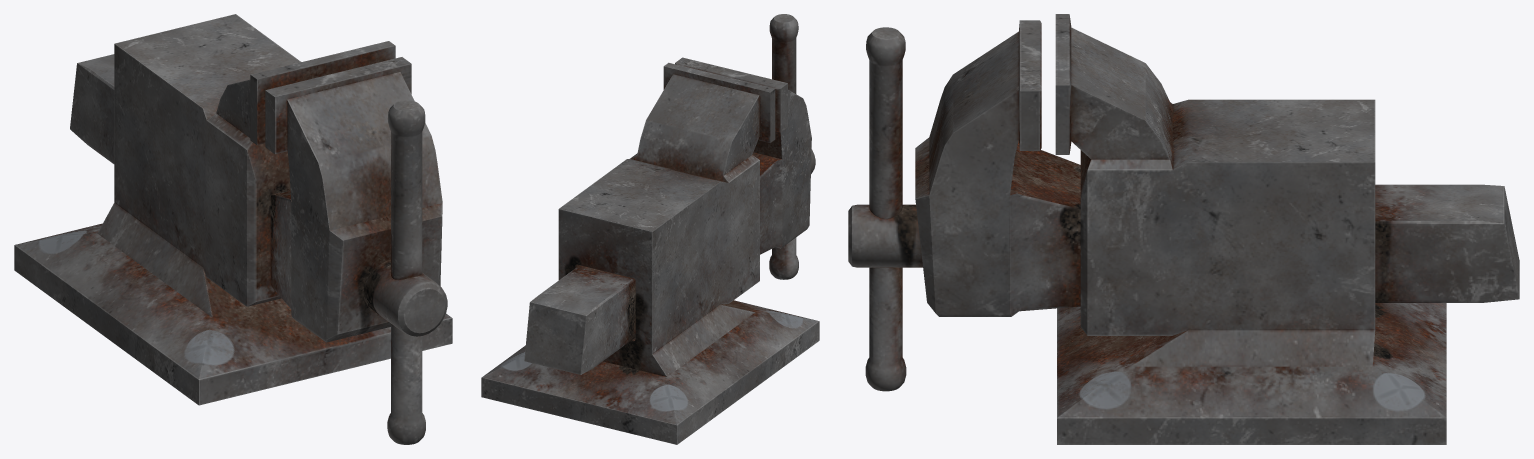
Rendered from vise.glb.
3 views of the same model, side by side, from view 1: azimuth 30°, elevation 25°; view 2: azimuth 150°, elevation 25°; view 3: azimuth 270°, elevation 25° (orthographic). The views are drawn at different scales.
Visible parts, largest first — view 1: Cube.001; view 2: Cube.001; view 3: Cube.001.
Boxes of the visible parts, x1,y1,x2,y2 form: Cube.001: (14, 14, 452, 444); Cube.001: (481, 14, 819, 444); Cube.001: (848, 14, 1519, 444).
Bounding box in the file's own units: 27.31 × 34.51 × 59.27.
Materials: 1 (1 with a texture image).
